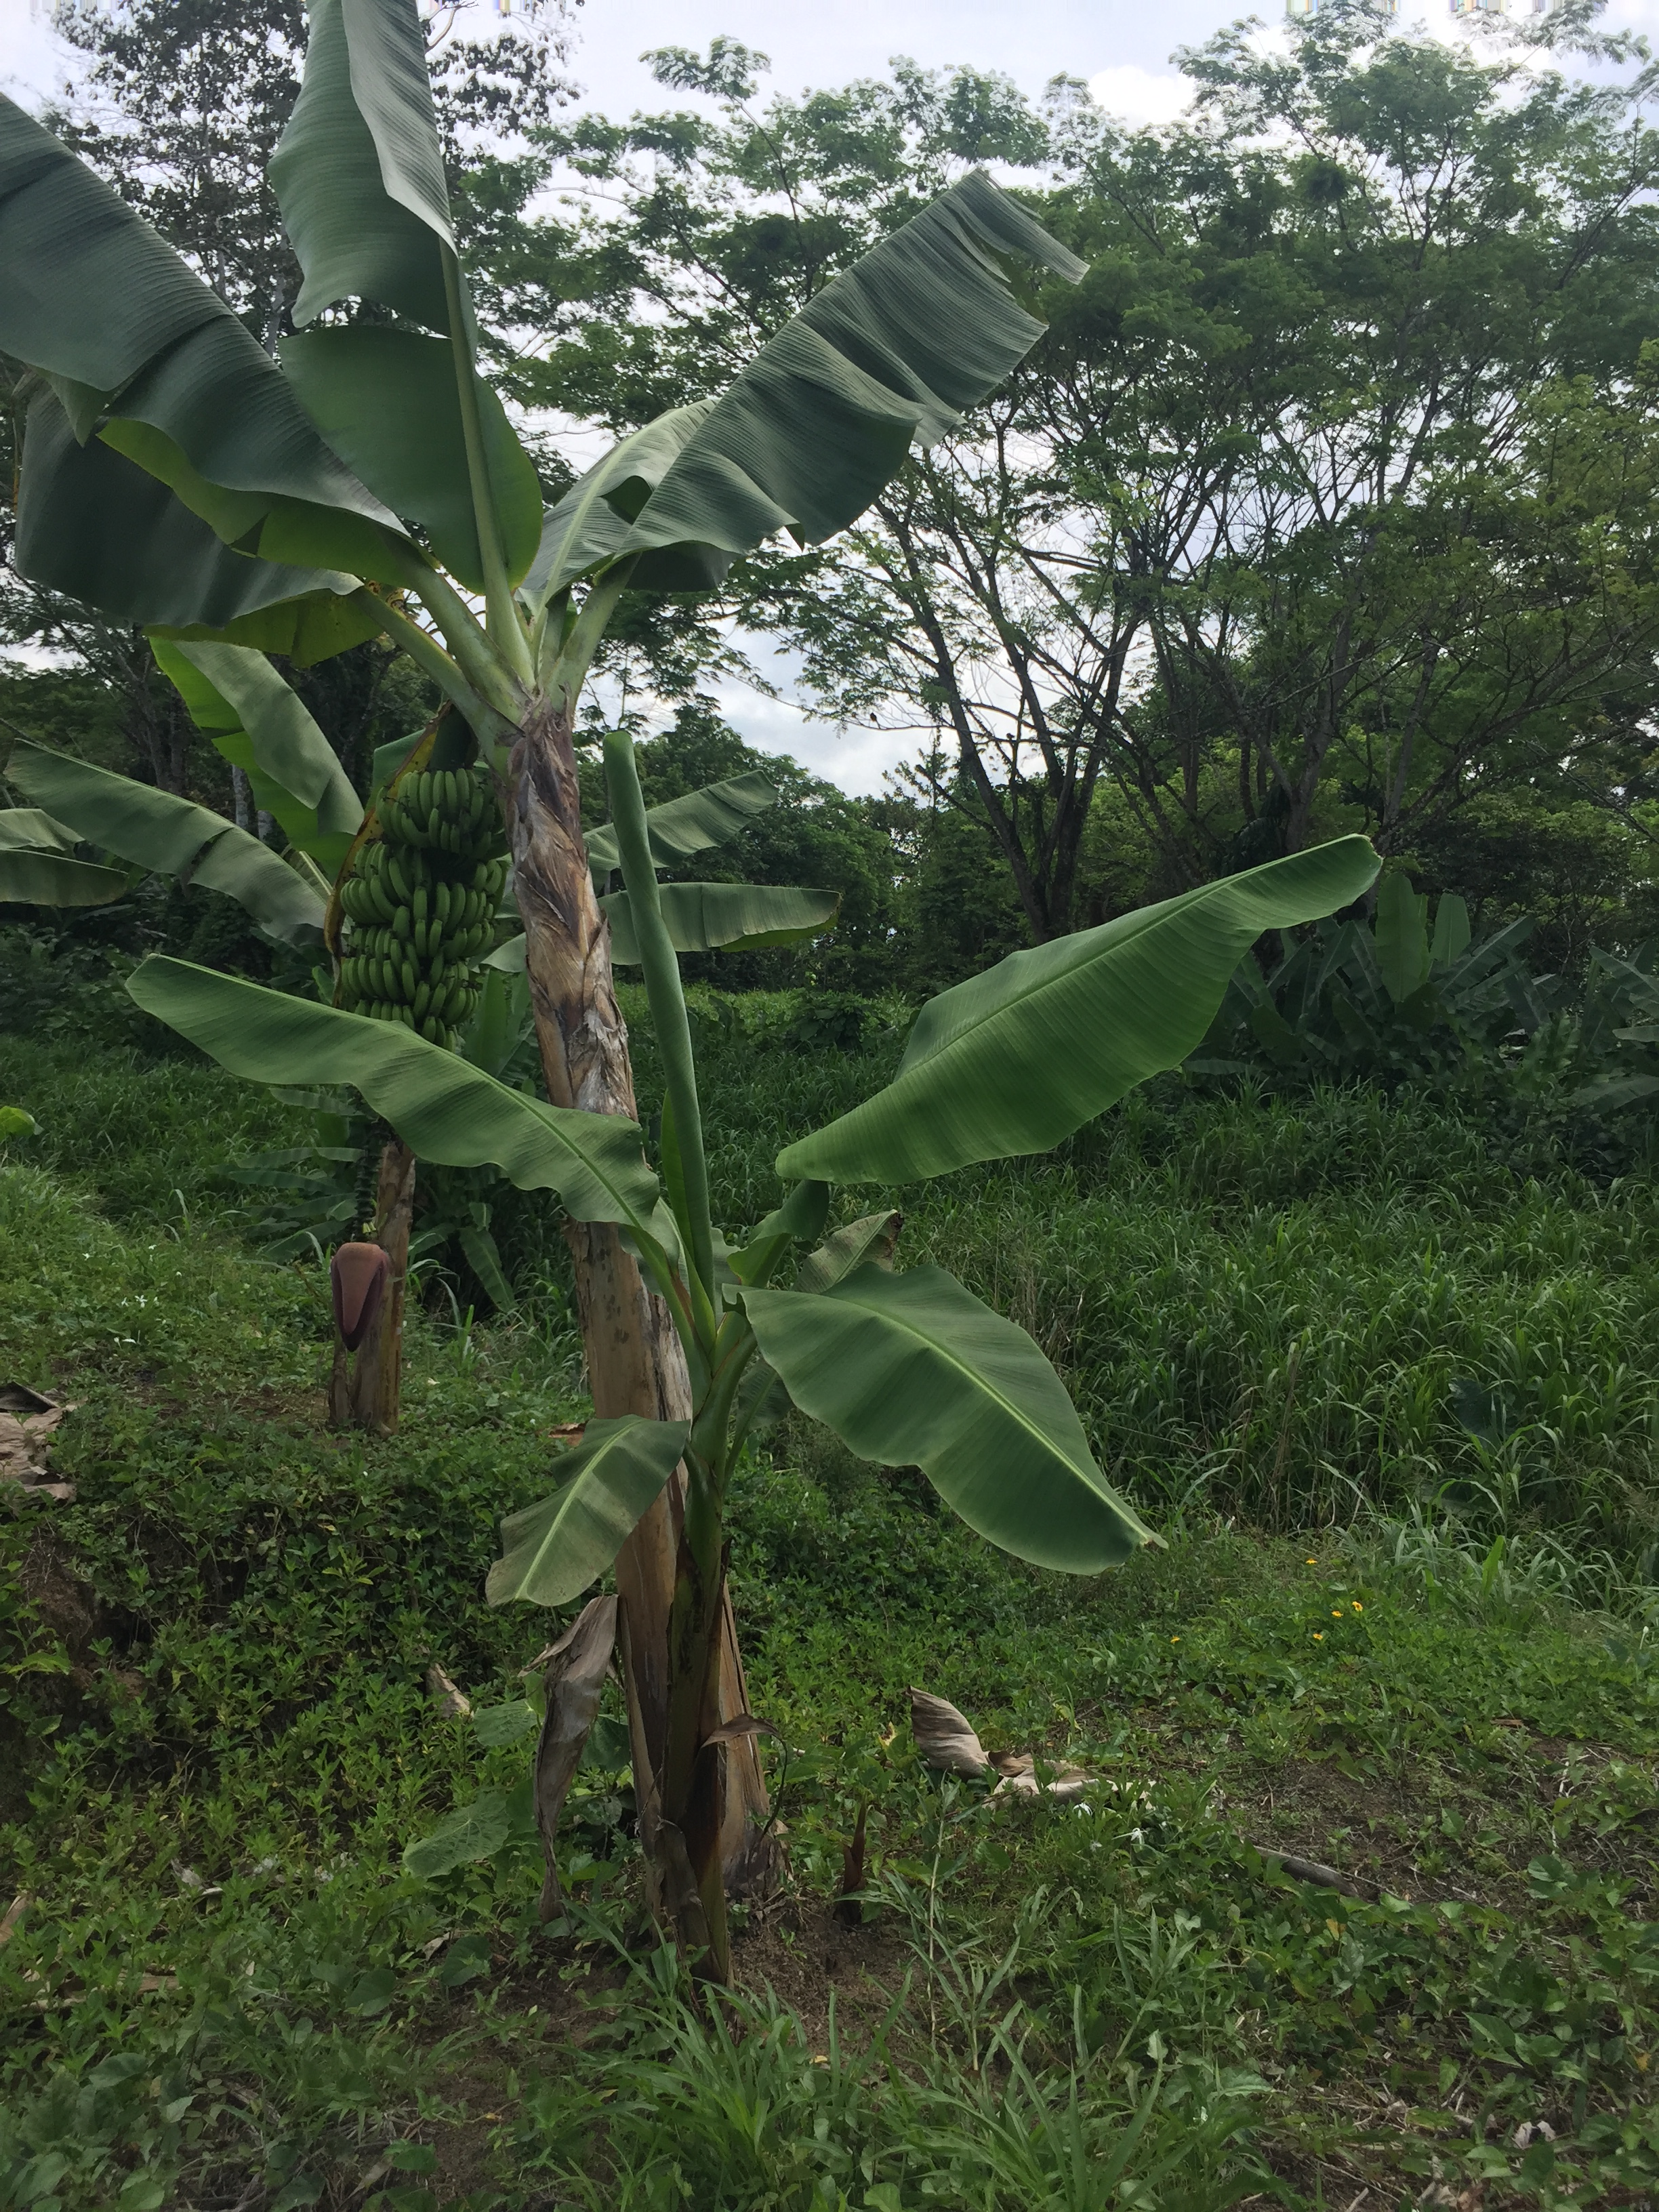candleleafs: (603, 732, 709, 1278)
